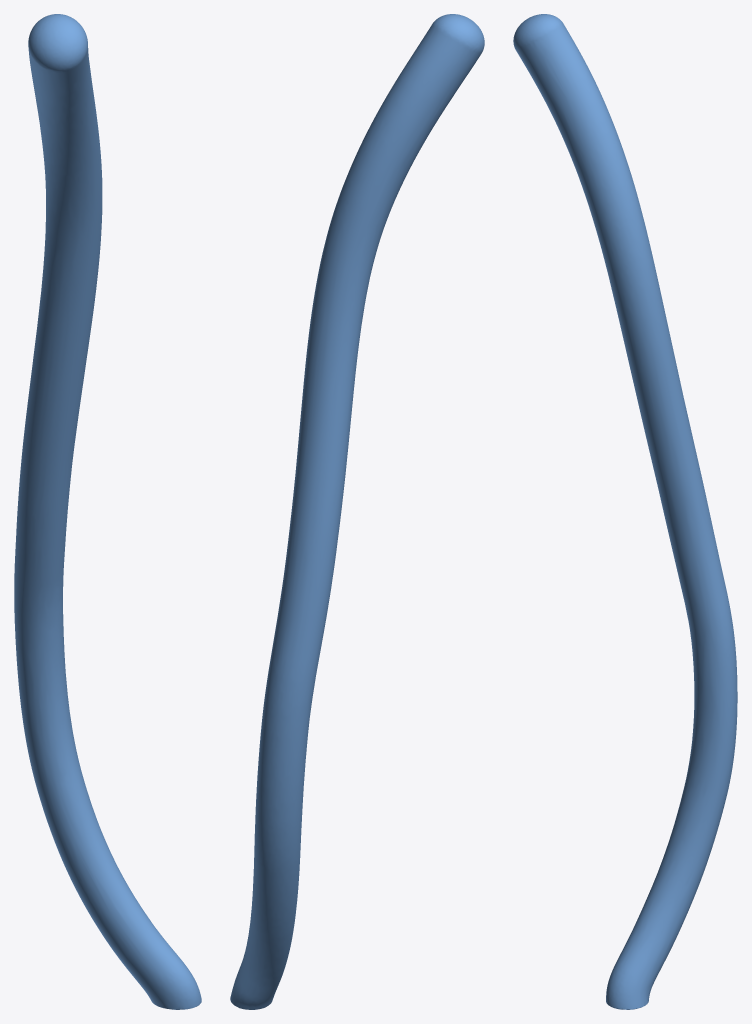
3 renders of one model, left to right at view 1: azimuth 30°, elevation 25°; view 2: azimuth 150°, elevation 25°; view 3: azimuth 270°, elevation 25°, orthographic. The views are drawn at different scales.
Visible parts, largest first — view 1: BP5862_left_popliteal_vein; view 2: BP5862_left_popliteal_vein; view 3: BP5862_left_popliteal_vein.
Part boxes in pixels (x1,y1,x2,y2): BP5862_left_popliteal_vein: (14, 14, 201, 1009); BP5862_left_popliteal_vein: (230, 14, 484, 1009); BP5862_left_popliteal_vein: (513, 14, 737, 1009).
Size of the model in its own units: 0.0376 by 0.1767 by 0.0392.
